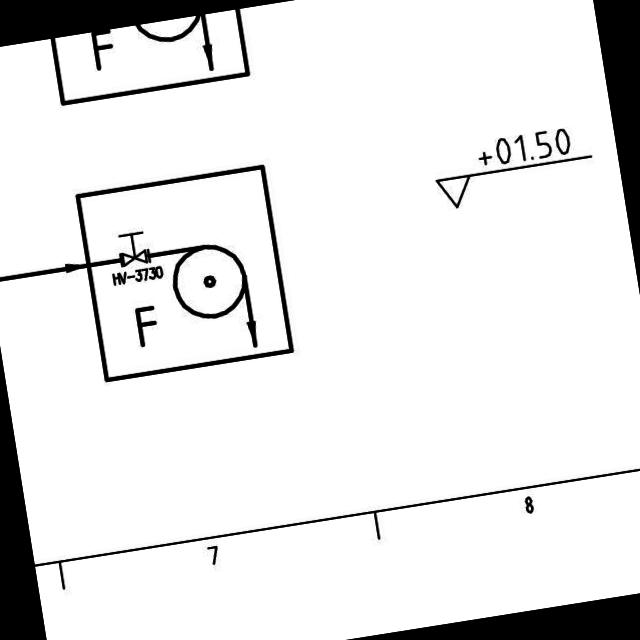HVWT: (115, 224, 152, 270)
